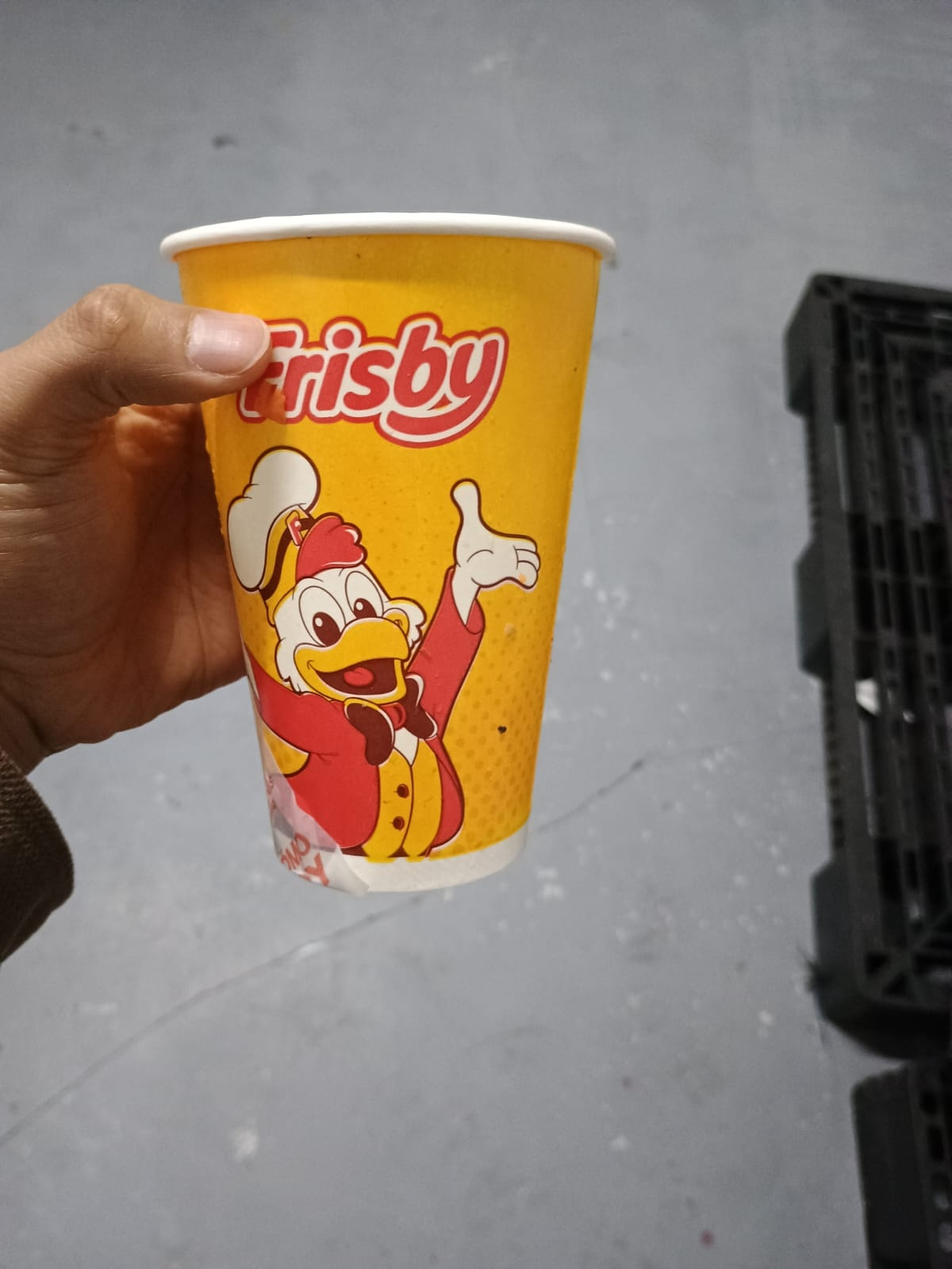Carton: (161, 212, 616, 894)
